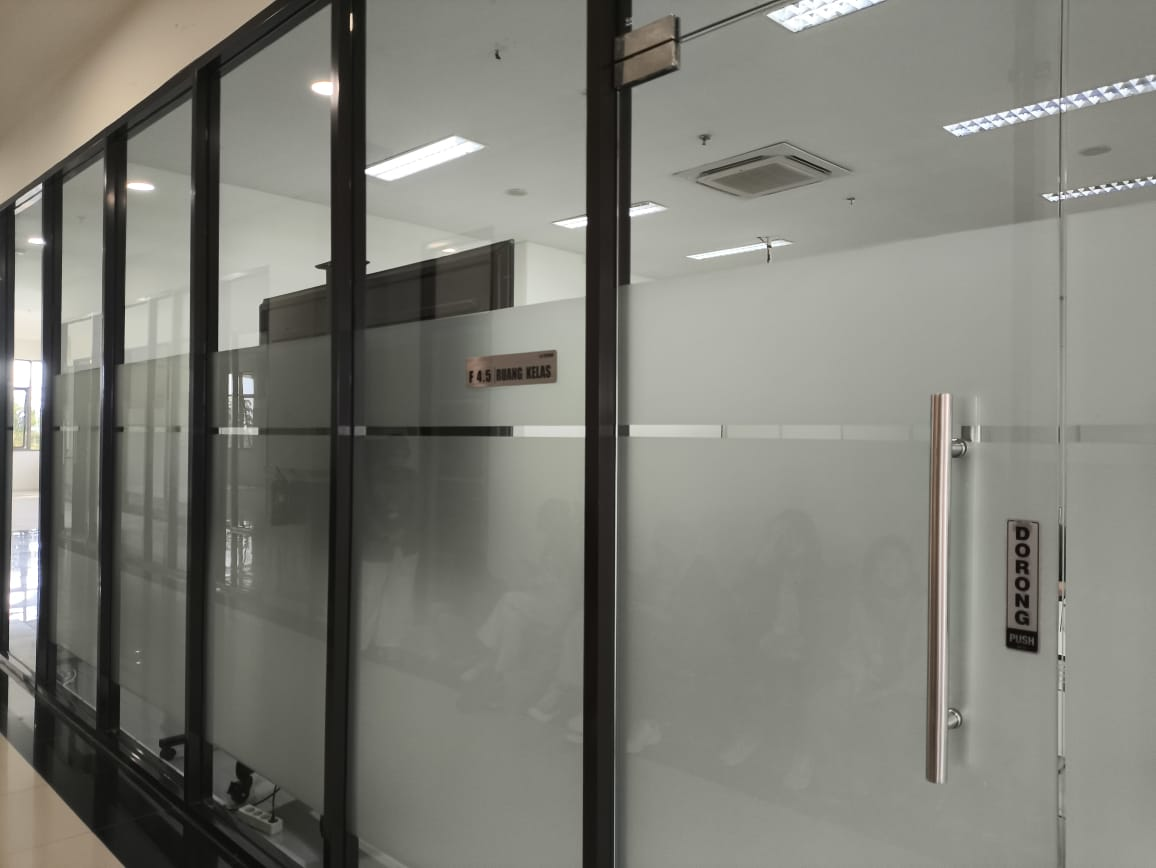ruangan: (458, 347, 565, 394)
